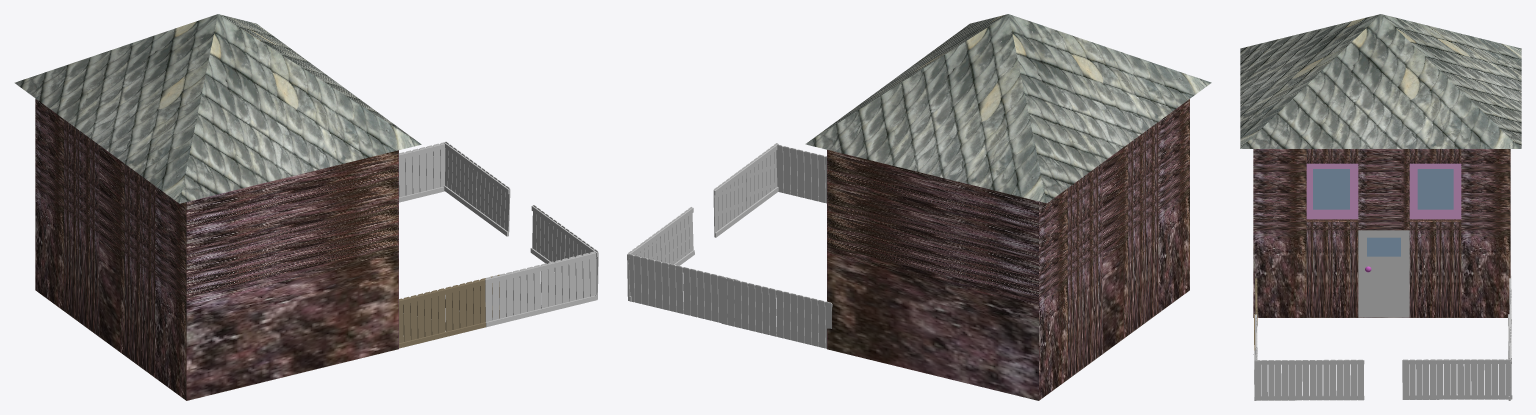
File: haus6_mit_vorgarten.fbx
The picture shows the model from 3 angles, left to right: view 1: azimuth 30°, elevation 25°; view 2: azimuth 150°, elevation 25°; view 3: azimuth 270°, elevation 25°; orthographic projection. The views are drawn at different scales.
Parts seen in each view (by area): view 1: haus; view 2: haus; view 3: haus.
Part boxes in pixels (x1=…): haus: x1=14, y1=14, x2=598, y2=400; haus: x1=627, y1=14, x2=1211, y2=400; haus: x1=1240, y1=14, x2=1521, y2=400.
Size of the model in its own units: 1174 by 1754 by 1200.
